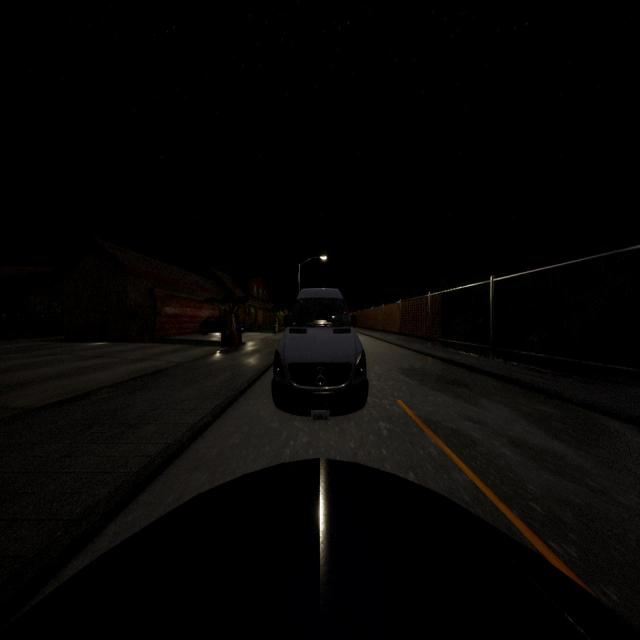Vehicle: (0, 453, 640, 640), (272, 288, 368, 413), (199, 315, 243, 336)
traffic_light: (344, 308, 346, 316)
